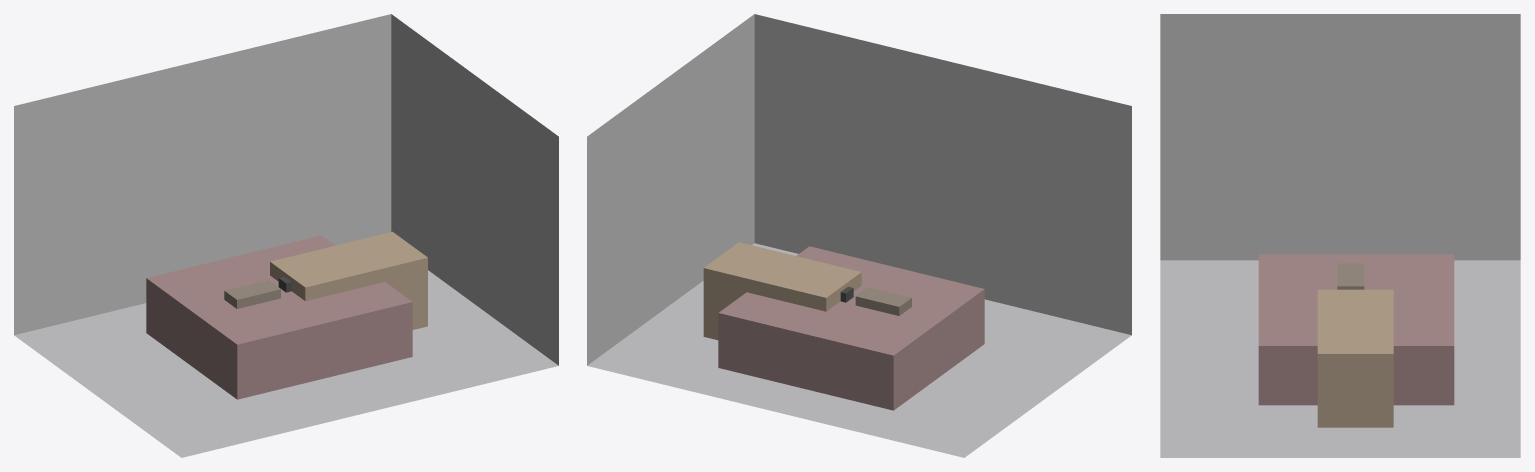
The model's file is optimised_layout.glb.
3 views of the same model, side by side, from view 1: azimuth 30°, elevation 25°; view 2: azimuth 150°, elevation 25°; view 3: azimuth 270°, elevation 25° (orthographic). The views are drawn at different scales.
Visible parts, largest first — view 1: room, bed, desk, suitcase; view 2: room, bed, desk, suitcase; view 3: room, bed, desk, suitcase.
Boxes of the visible parts, left/top/right/bottom form: room: left=14, top=14, right=558, bottom=457; bed: left=146, top=235, right=412, bottom=399; desk: left=270, top=231, right=427, bottom=329; suitcase: left=224, top=280, right=280, bottom=308; room: left=587, top=14, right=1131, bottom=457; bed: left=718, top=246, right=984, bottom=410; desk: left=703, top=242, right=861, bottom=340; suitcase: left=855, top=287, right=911, bottom=315; room: left=1160, top=14, right=1520, bottom=457; bed: left=1258, top=254, right=1454, bottom=405; desk: left=1317, top=289, right=1393, bottom=427; suitcase: left=1337, top=263, right=1364, bottom=289.
Bounding box in the file's own units: 4.31 × 2.5 × 3.31.
